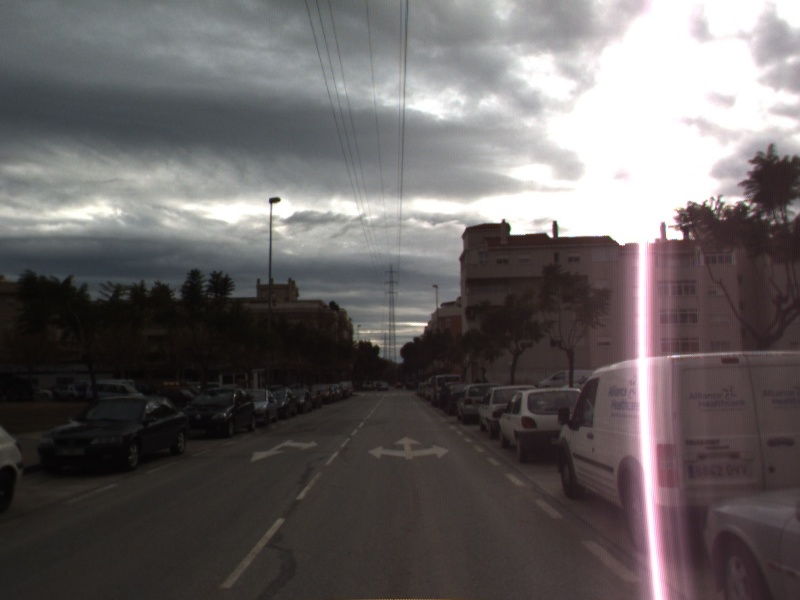STRAIGHT_LEFT_RIGHT: (366, 434, 452, 462)
